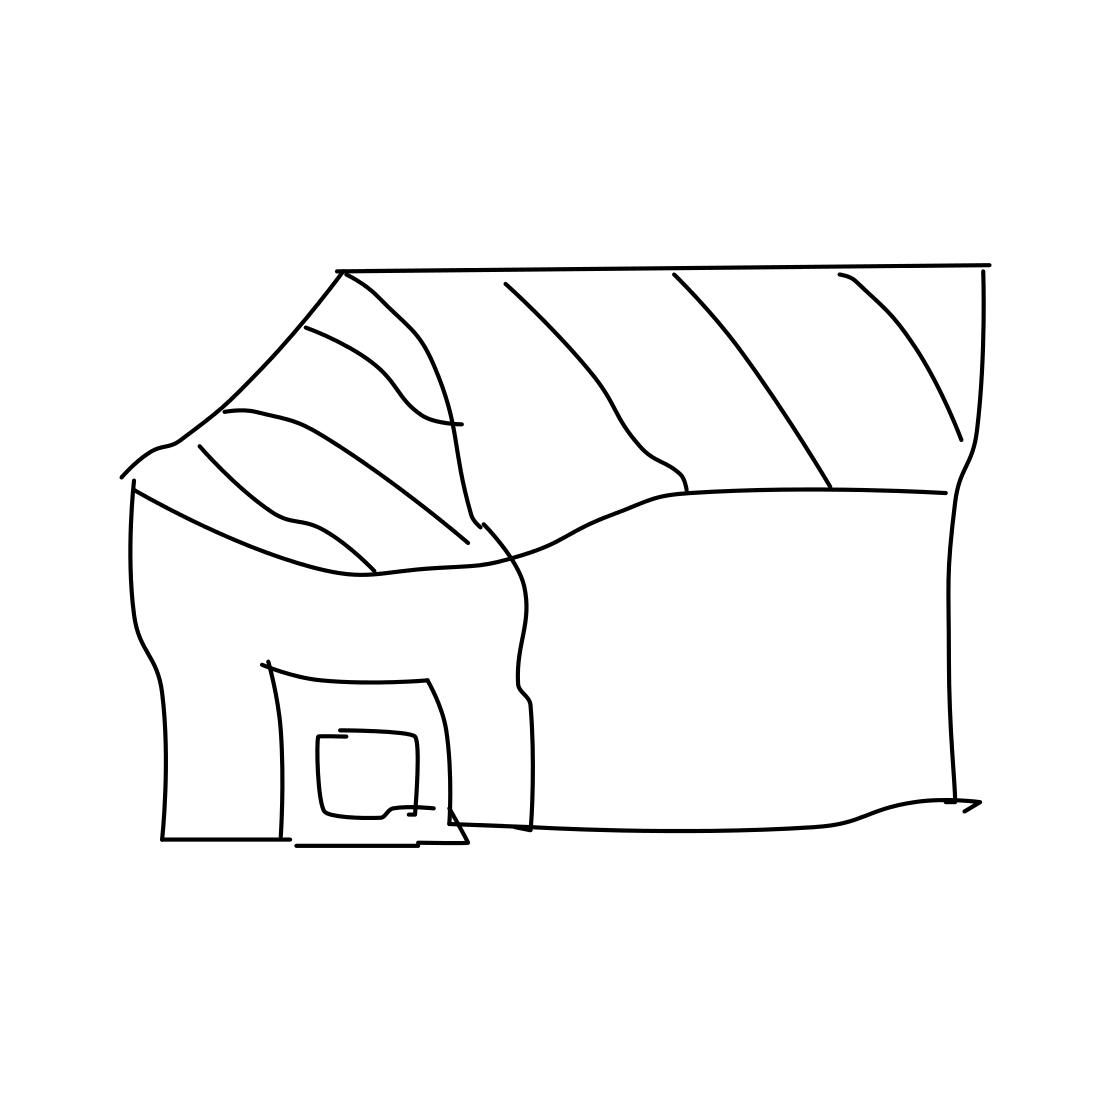House: (51, 191, 1024, 872)
